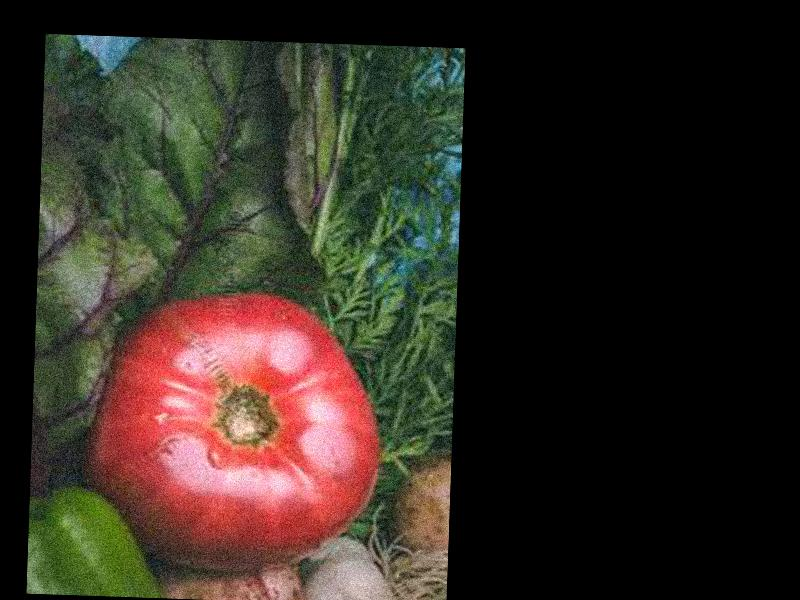Tomato: (79, 288, 385, 579)
